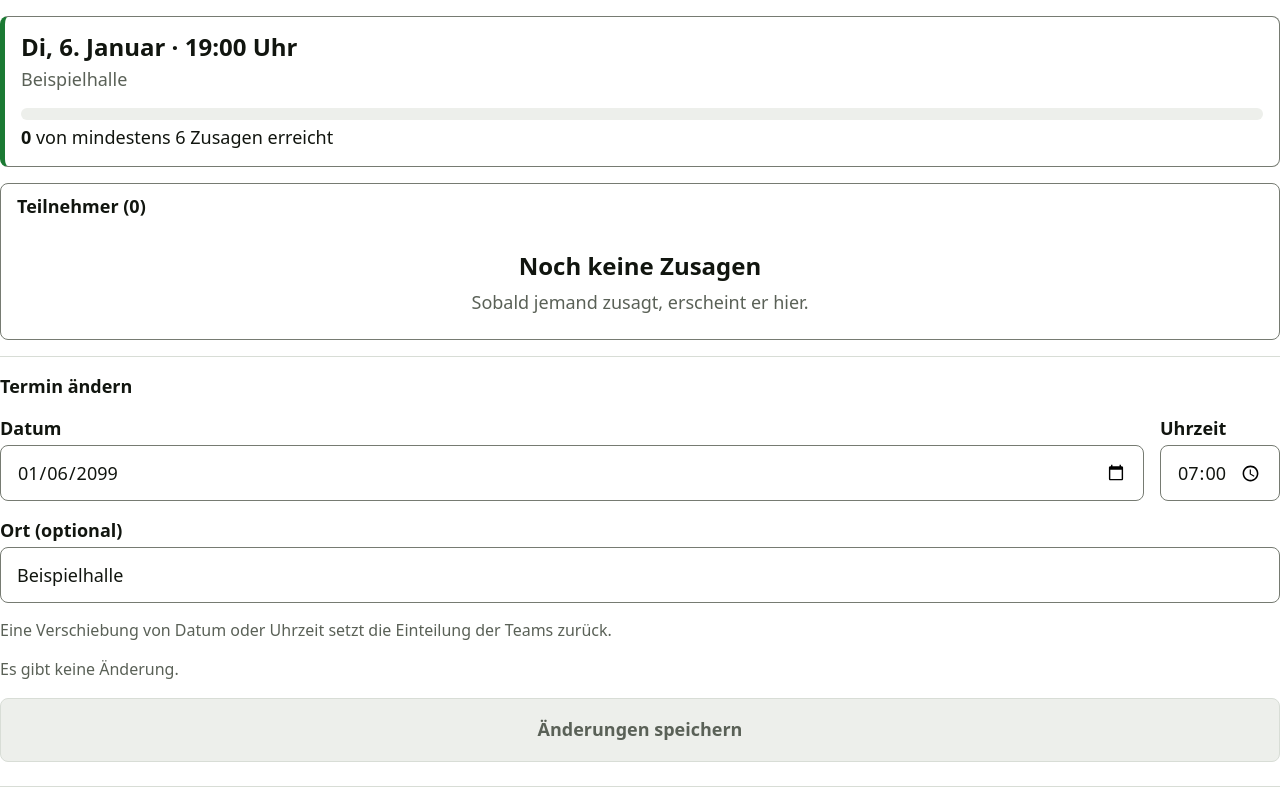
Test: AdminTerminDetail – Termin ändern › TERMIN_BELEGT steht am Uhrzeitfeld, der Fokus geht dorthin, die Eingaben bleiben
Step 1. Type "2099-01-13" into the date field with test id "termin-datum" → x=572, y=473, box 0,445 -> 1144,501
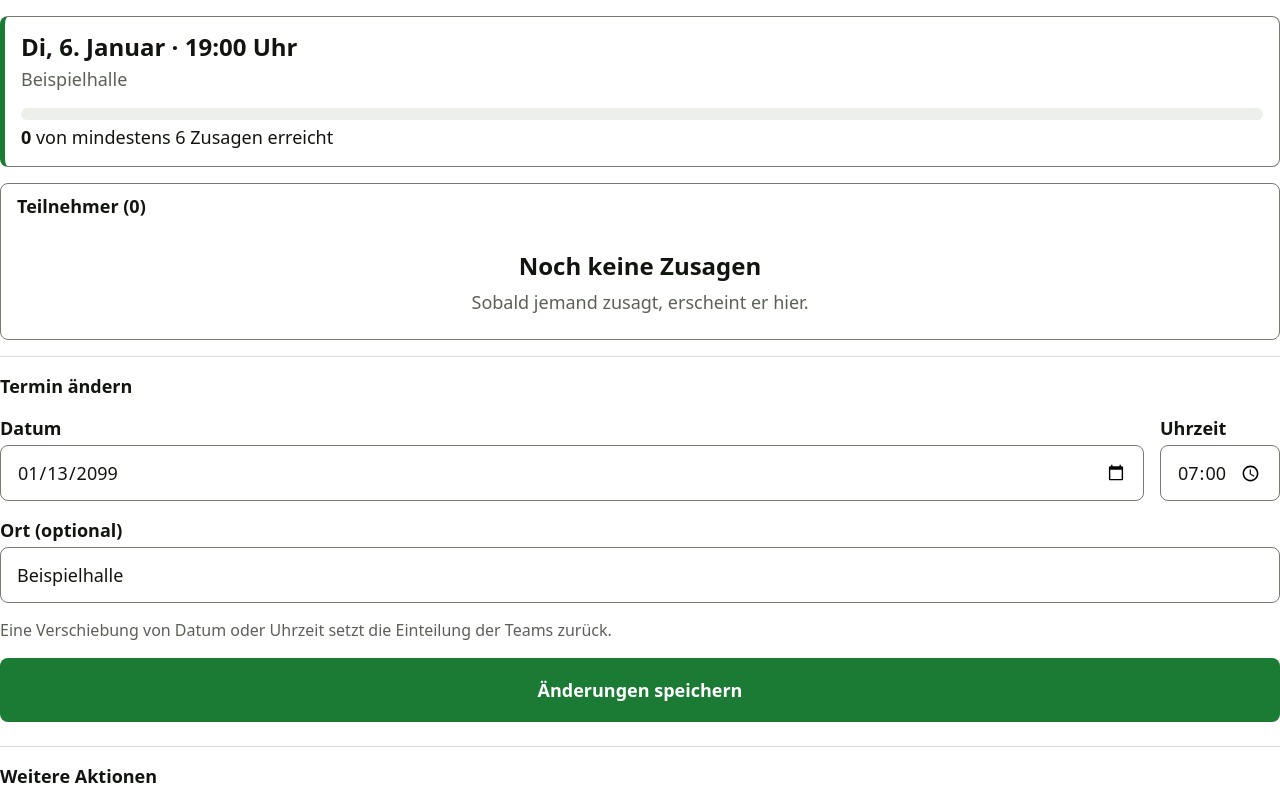
Step 2. Click the button with test id "admin-termin-speichern" → x=640, y=690, box 0,658 -> 1279,722
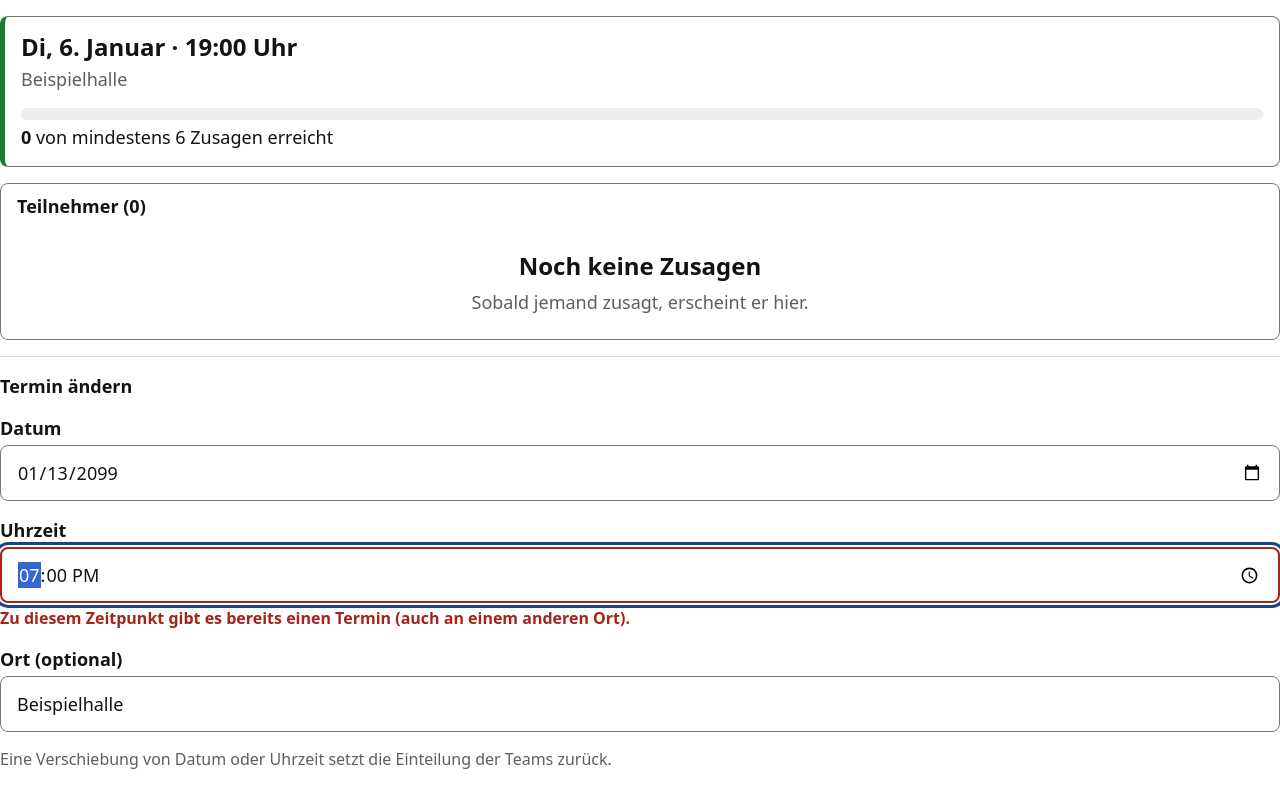
Expected: the text with test id "termin-uhrzeit-fehler" reads "Zu diesem Zeitpunkt gibt es bereits einen Termin (auch an einem anderen Ort).", 0,607 -> 630,629
